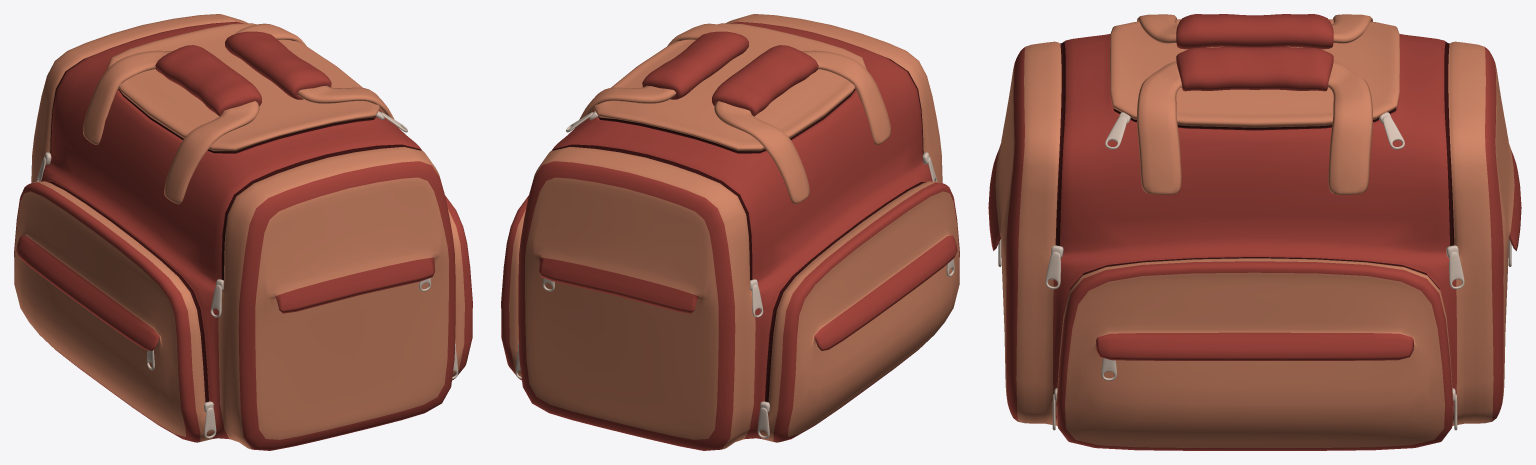
The model's file is airport_travel_bag_by_get3dmodels.glb.
3 renders of one model, left to right at view 1: azimuth 30°, elevation 25°; view 2: azimuth 150°, elevation 25°; view 3: azimuth 270°, elevation 25°, orthographic. The views are drawn at different scales.
Visible parts, largest first — view 1: 17.8.Model; view 2: 17.8.Model; view 3: 17.8.Model.
Part boxes in pixels (left/top/right/bottom): 17.8.Model: left=14, top=14, right=472, bottom=450; 17.8.Model: left=501, top=14, right=959, bottom=450; 17.8.Model: left=988, top=14, right=1521, bottom=450.
Size of what is drawn, in the model's own units: 0.5183 by 0.4474 by 0.6301.
Materials: 1 (1 with a texture image).
